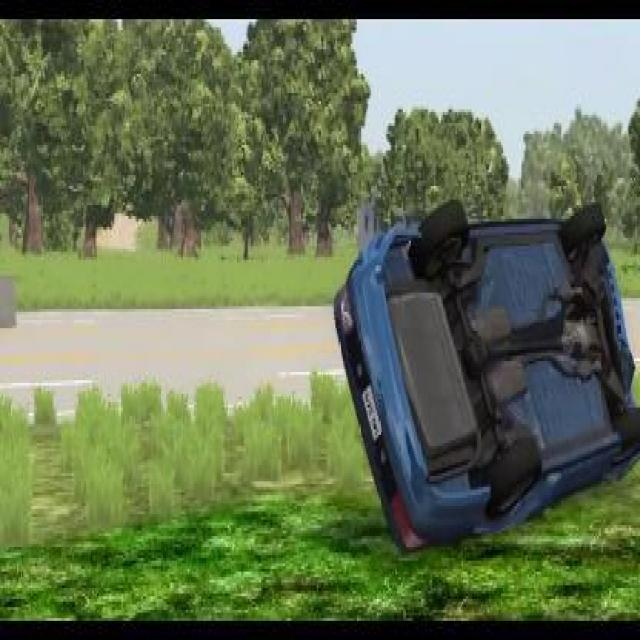accident: (328, 174, 638, 548)
